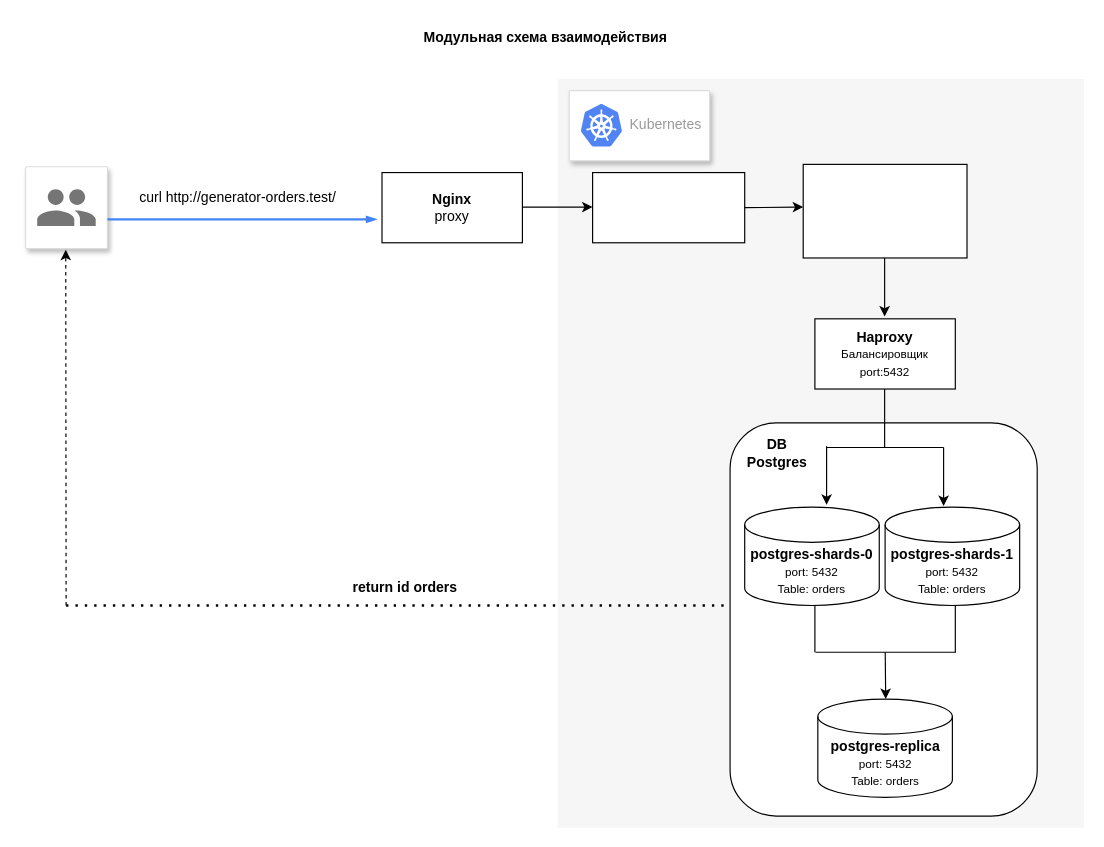
Some shapes in this 1104 by 847 pixel diagram are drawn without their labels. The shapes that lost their labels are listed below. From the top down, each one's centre as x and y in pixels, then its label:
At point 67,209: "browser".
At point 668,207: "Ingress host: generator-orders.test port: 80".
At point 884,210: "api-orders-generator image: nikolayfrolov1986/api-orders-generator:2.5".
